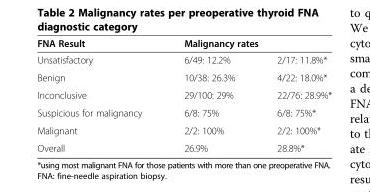table: (36, 37, 331, 153)
table column: (36, 37, 162, 153), (162, 37, 255, 153), (255, 37, 331, 153)
table column header: (36, 37, 331, 68)
table row: (36, 85, 331, 103), (36, 103, 331, 121), (36, 51, 331, 68), (36, 68, 331, 85), (36, 121, 331, 138), (36, 138, 331, 153), (36, 37, 331, 51)
table spanning cell: (36, 37, 162, 68), (162, 37, 331, 51)
